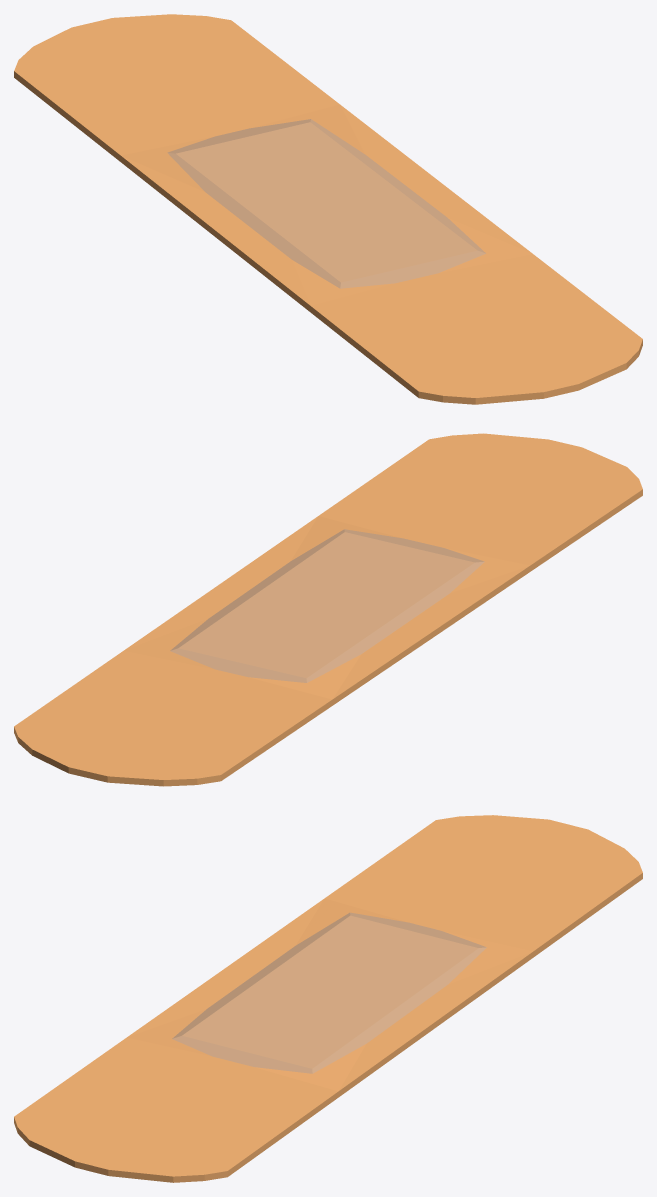
Rendered from Band aid.fbx.
3 views of the same model, one above another, from view 1: azimuth 30°, elevation 25°; view 2: azimuth 150°, elevation 25°; view 3: azimuth 330°, elevation 25° (orthographic). The views are drawn at different scales.
Visible parts, largest first — view 1: BandAid; view 2: BandAid; view 3: BandAid.
Boxes of the visible parts, <box> form: BandAid: <box>14,14,642,404</box>; BandAid: <box>14,433,642,786</box>; BandAid: <box>14,815,642,1182</box>.
Bounding box in the file's own units: 1.3 × 0.0796 × 4.6.
